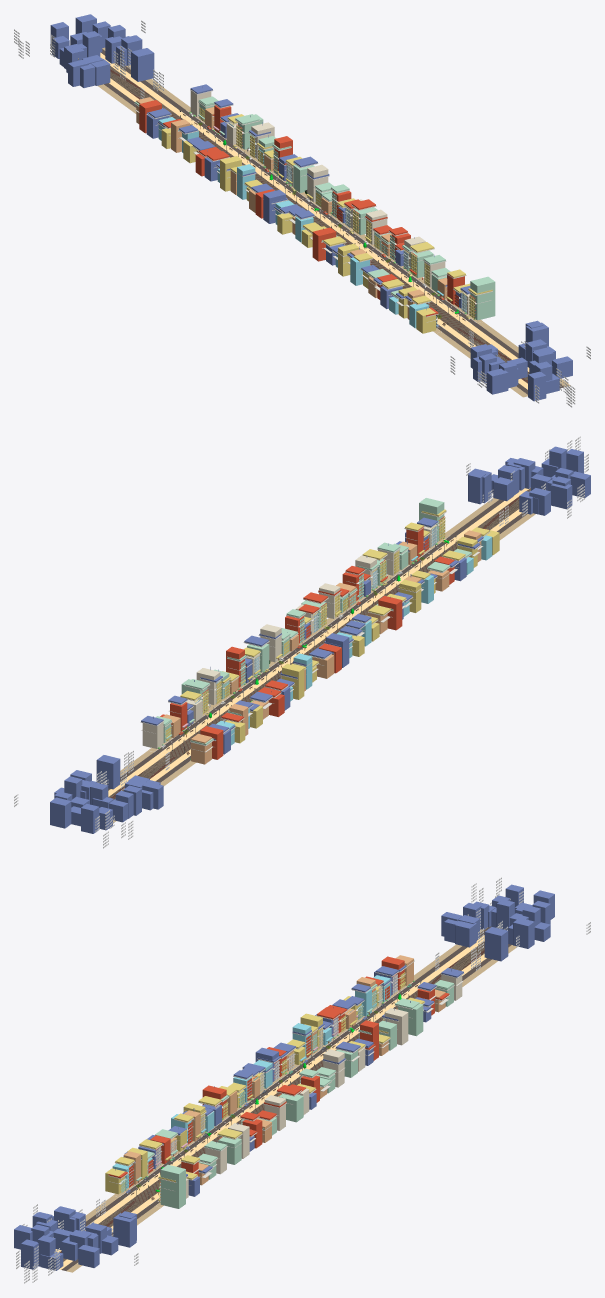
Rendered from city_arena_morning.glb.
3 renders of one model, top to bottom at view 1: azimuth 30°, elevation 25°; view 2: azimuth 150°, elevation 25°; view 3: azimuth 330°, elevation 25°, orthographic.
Parts seen in each view (by area): view 1: SideLane_Right, Bldg_8.001, BackdropN_13_Bldg_8, BackdropS_11_Bldg_6, Bldg_6.002, GapFill_N_Path; view 2: SideLane_Right, BackdropN_13_Bldg_8, BackdropNC_6_Bldg_14, Bldg_6.002, Bldg_8.001, Bldg_3.003, Bldg_14; view 3: SideLane_Left, Bldg_8.001, BackdropN_13_Bldg_8, BackdropS_13_Bldg_8, BackdropN_6_Bldg_14, Bldg_14.003.
Part boxes in pixels (x1,y1,x2,y2): SideLane_Right: (181,110,476,324); Bldg_8.001: (470,276,495,320); BackdropN_13_Bldg_8: (131,48,154,81); BackdropS_11_Bldg_6: (486,368,508,394); Bldg_6.002: (312,227,336,261); GapFill_N_Path: (110,66,174,113); SideLane_Right: (155,536,454,753); BackdropN_13_Bldg_8: (96,755,120,789); BackdropNC_6_Bldg_14: (50,797,71,828); Bldg_6.002: (378,596,402,630); Bldg_8.001: (419,498,444,541); Bldg_3.003: (282,663,304,699); Bldg_14: (260,624,281,662); SideLane_Left: (119,981,419,1198); Bldg_8.001: (160,1164,185,1208); BackdropN_13_Bldg_8: (484,927,508,961); BackdropS_13_Bldg_8: (113,1213,136,1247); BackdropN_6_Bldg_14: (513,918,534,948); Bldg_14.003: (384,1008,408,1045).
Size of the model in its own units: 46.75 by 13.16 by 353.
163 materials, 8 textured.
